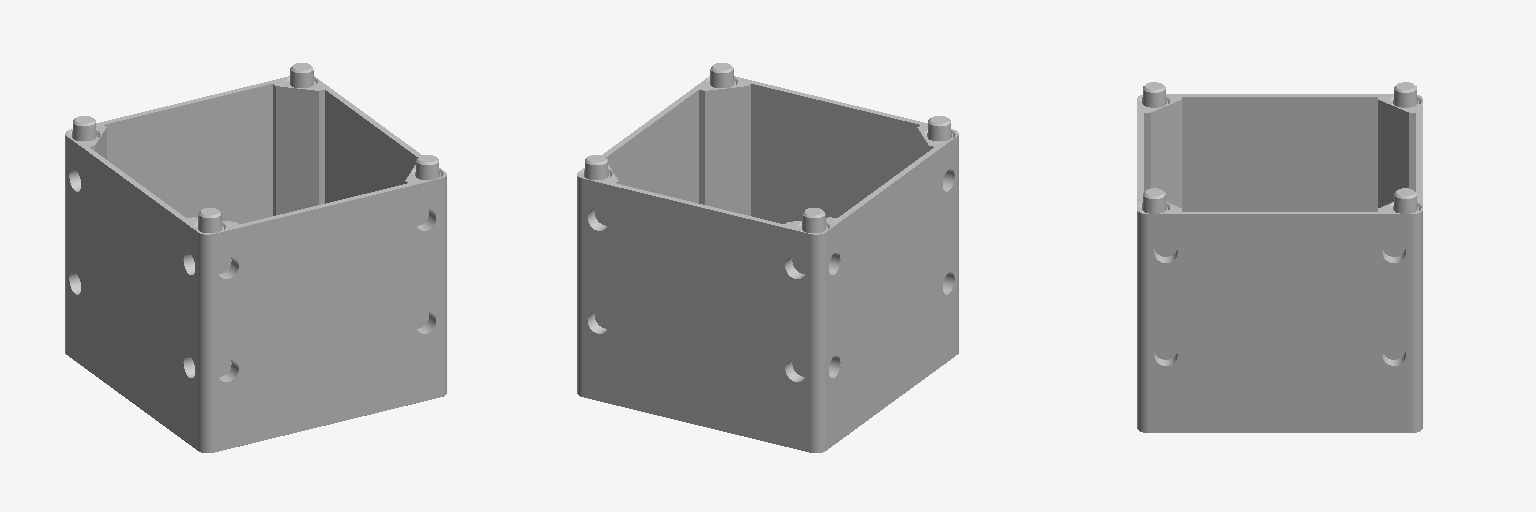
Rendered from Cube 1x1 V5_Cube 1x1 Bottom V5 Closed Vertical.obj.
3 renders of one model, left to right at view 1: azimuth 30°, elevation 25°; view 2: azimuth 150°, elevation 25°; view 3: azimuth 270°, elevation 25°, orthographic.
Parts seen in each view (by area): view 1: Solid1:6; view 2: Solid1:6; view 3: Solid1:6.
Part boxes in pixels (x1,y1,x2,y2): Solid1:6: (65,63,446,452); Solid1:6: (577,63,958,452); Solid1:6: (1137,82,1422,432).
Bounding box in the file's own units: 49.8 × 44.98 × 49.8.